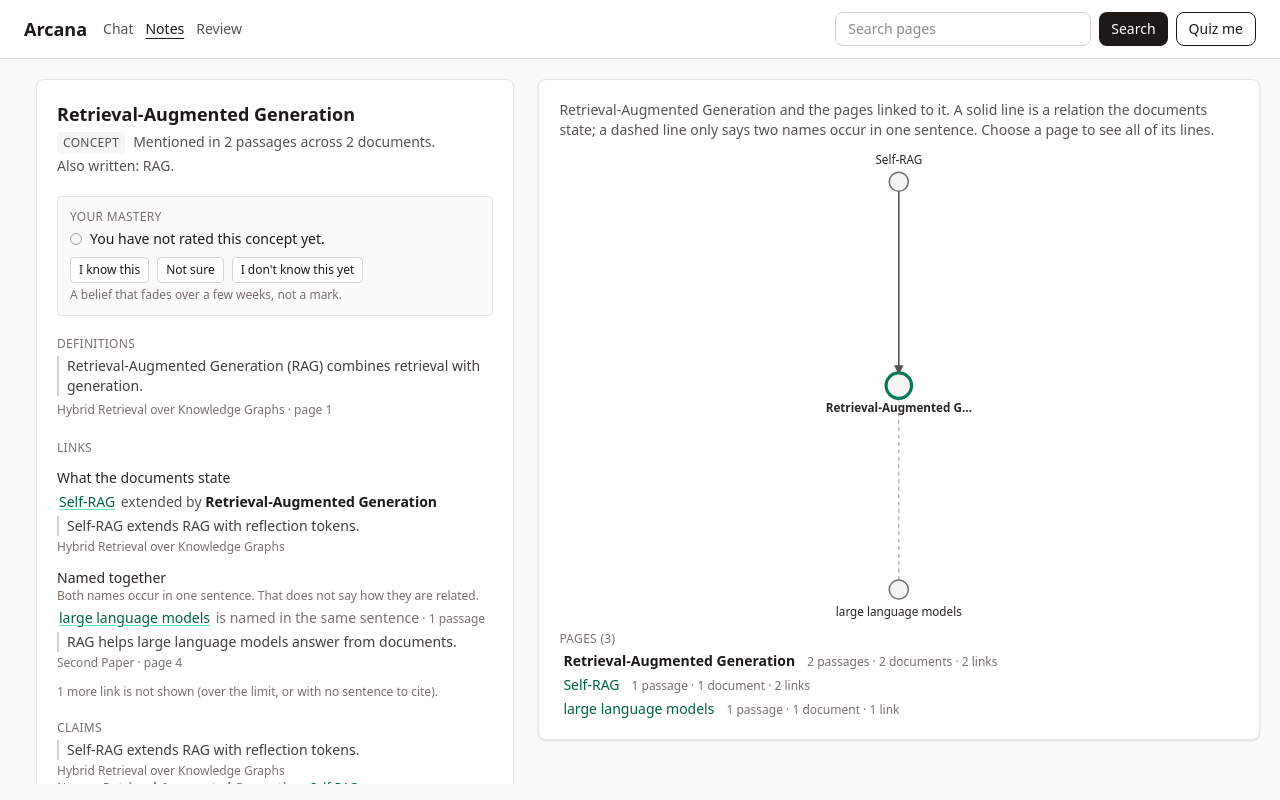
Test: NotesWorkspace › records a rating and shows the page again with it, without blanking the page meanwhile
The width and height of the screenshot is (1280, 800).
Expected: the element "Your mastery" shows "You have not rated this concept yet.", [90,229,325,248]
Click the button "I know this" at (110, 270), box [70,257,149,283]
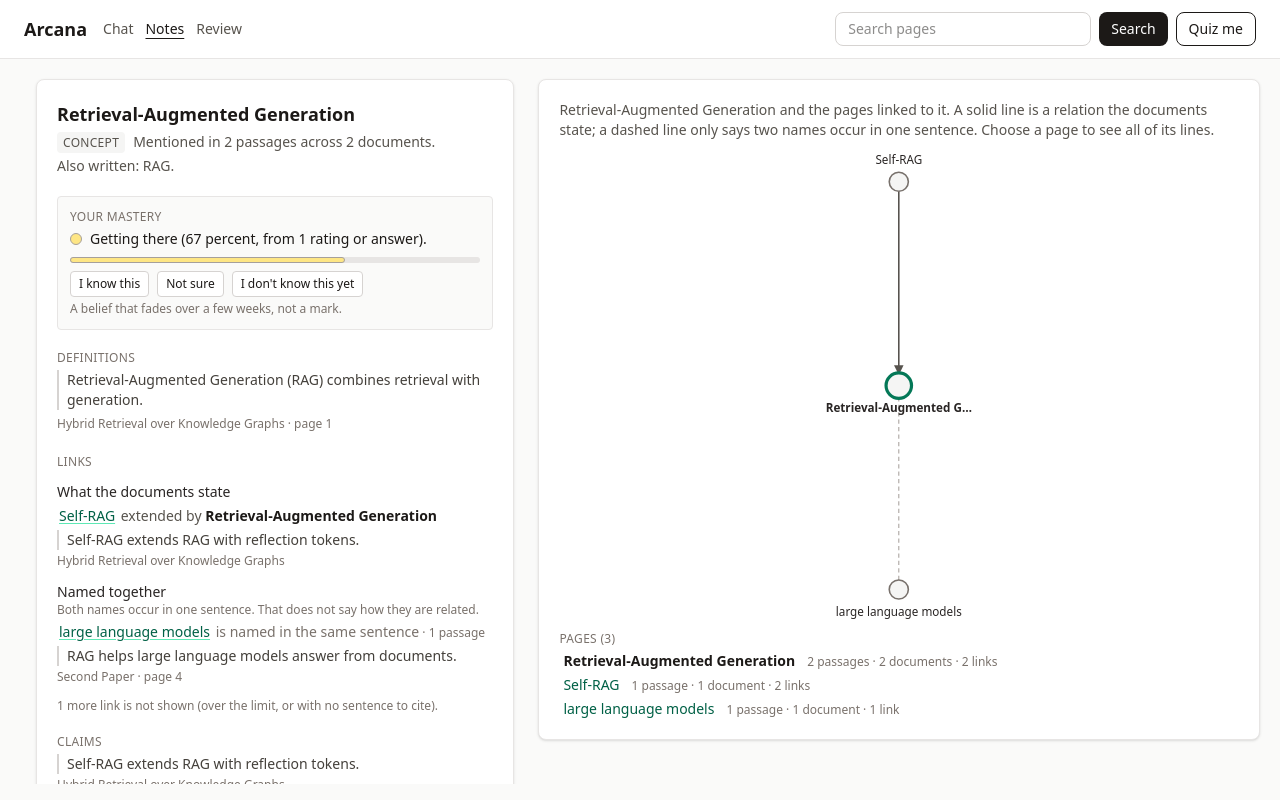
Now the element "Your mastery" shows "Getting there (67 percent, from 1 rating or answer).", box [90,229,427,248]
